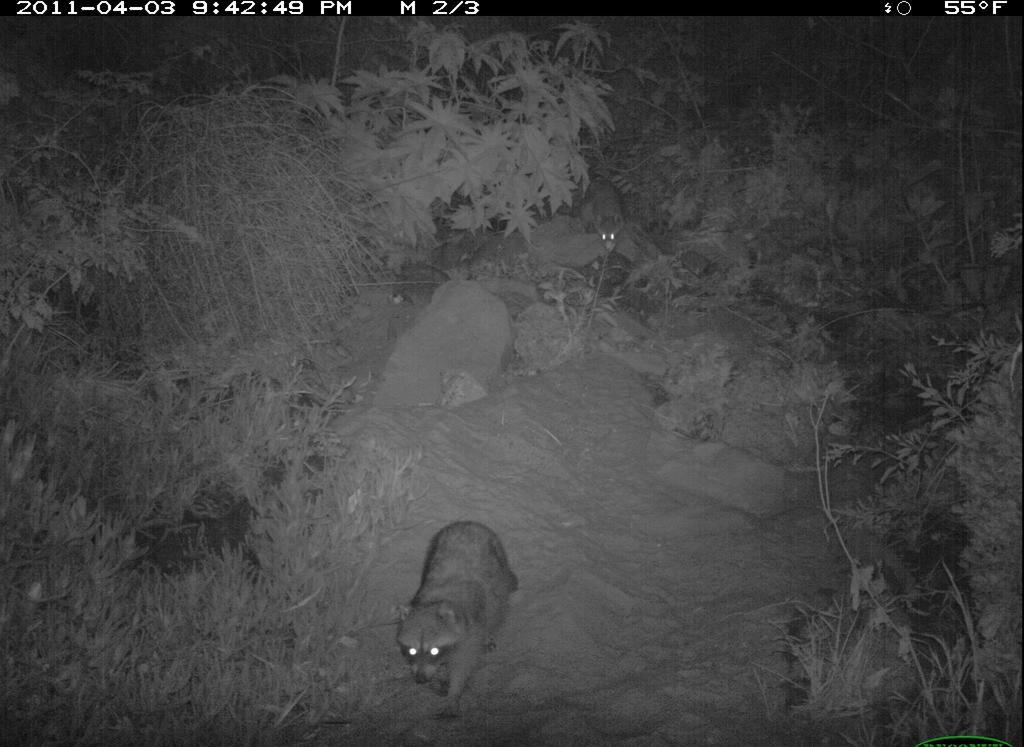raccoon: (358, 509, 555, 729), (556, 164, 638, 259)
